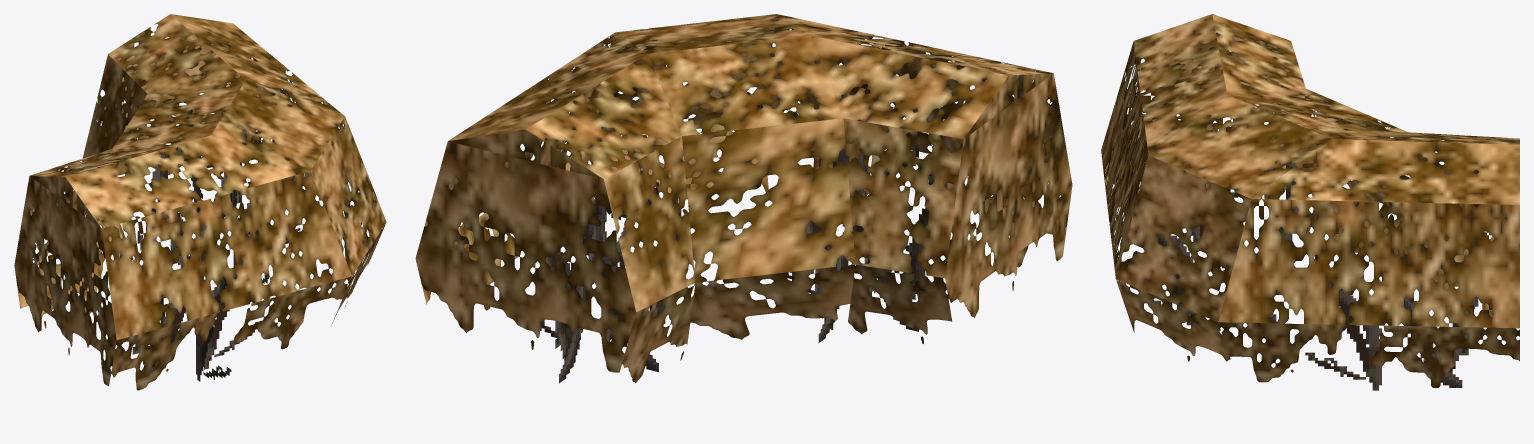
Rendered from bush_round_corner_roots_autumn.fbx.
The picture shows the model from 3 angles, left to right: view 1: azimuth 30°, elevation 25°; view 2: azimuth 150°, elevation 25°; view 3: azimuth 270°, elevation 25°; orthographic projection. The views are drawn at different scales.
Visible parts, largest first — view 1: bush_round_corner_roots_autumn; view 2: bush_round_corner_roots_autumn; view 3: bush_round_corner_roots_autumn.
Part boxes in pixels (box(x1,y1,x2,y2)): bush_round_corner_roots_autumn: box(14, 14, 386, 390); bush_round_corner_roots_autumn: box(415, 14, 1072, 383); bush_round_corner_roots_autumn: box(1101, 14, 1519, 390).
Size of the model in its own units: 136 by 87.65 by 135.
Materials: 2 (2 with a texture image).
